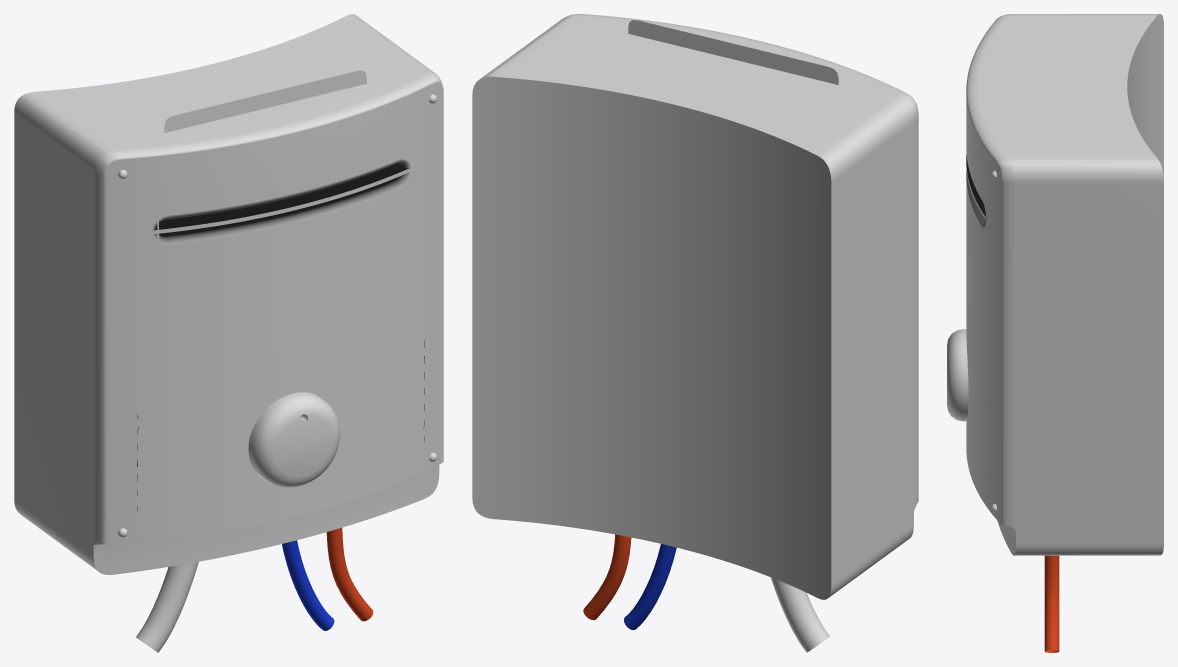
The model's file is boiler.fbx.
The picture shows the model from 3 angles, left to right: view 1: azimuth 30°, elevation 25°; view 2: azimuth 150°, elevation 25°; view 3: azimuth 270°, elevation 25°; orthographic projection. The views are drawn at different scales.
Parts seen in each view (by area): view 1: merge2; view 2: merge2; view 3: merge2.
Part boxes in pixels (x1,y1,x2,y2): merge2: (14, 14, 443, 652); merge2: (472, 14, 918, 652); merge2: (947, 14, 1163, 652).
Size of the model in its own units: 0.8056 by 1.27 by 0.4713.
